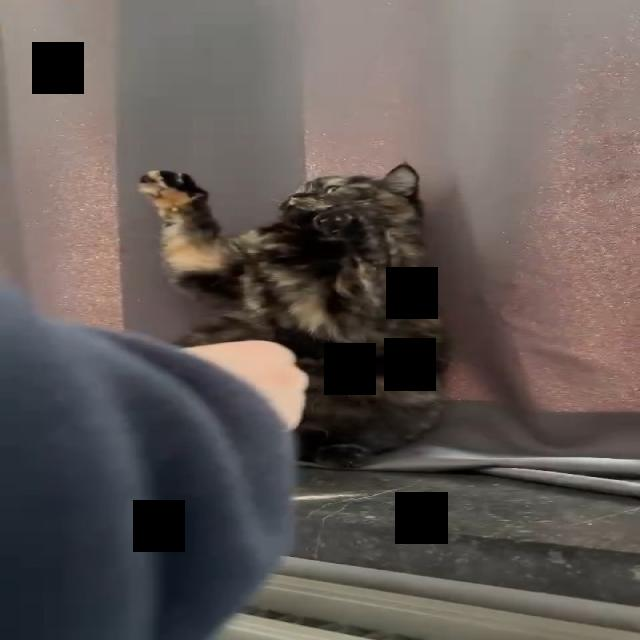authorized: (135, 160, 452, 468)
